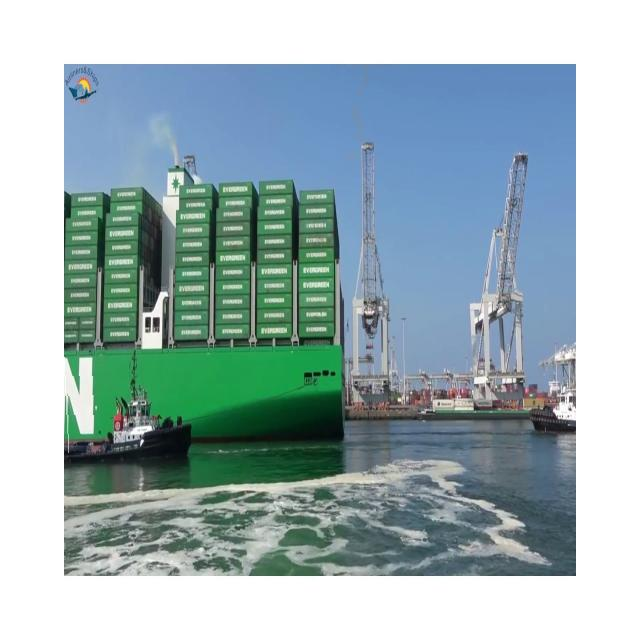OCR: (63, 347, 105, 453)
